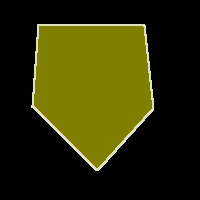tie: (32, 24, 153, 170)
